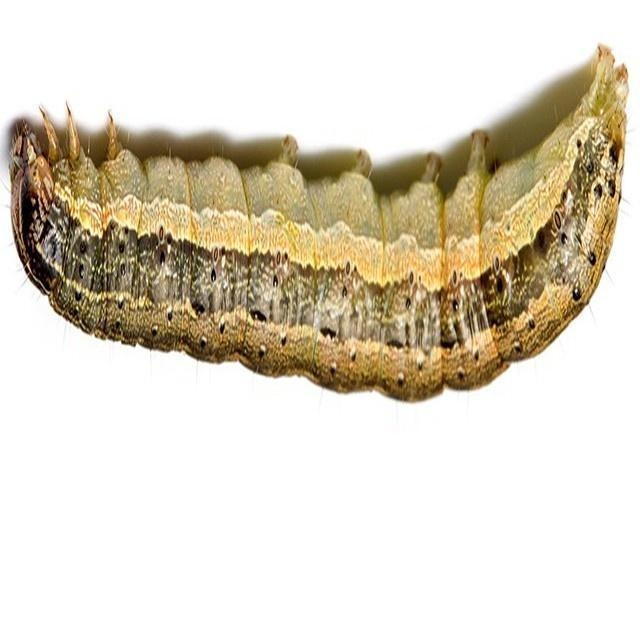gusano_cogollero: (16, 45, 624, 400)
